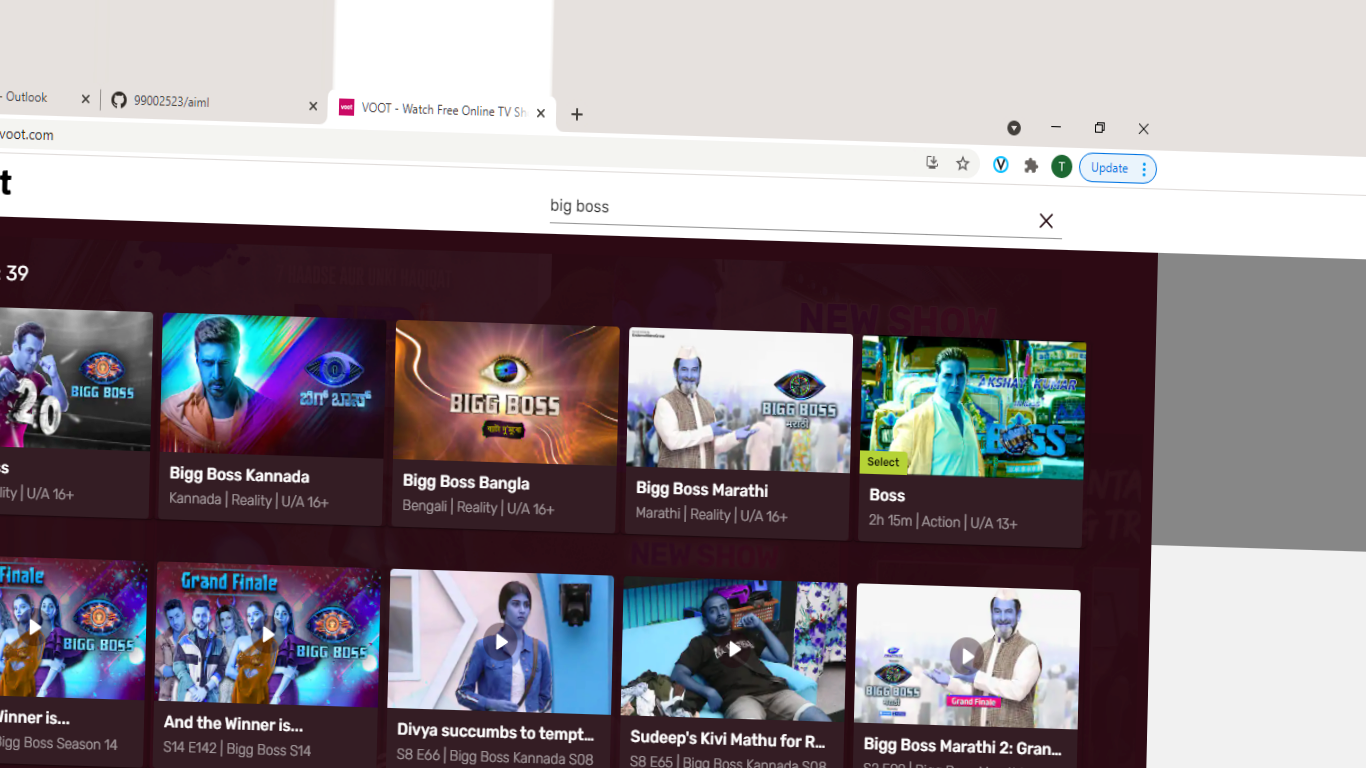searchtextbox: (545, 182, 1061, 235)
